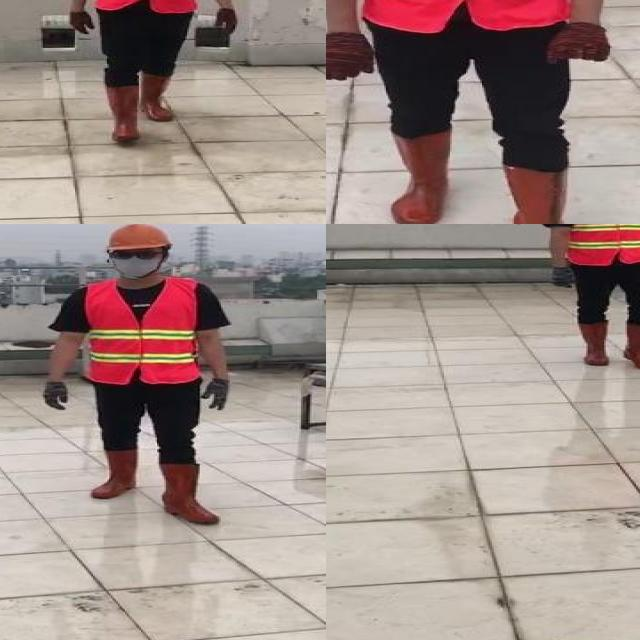boots: (498, 162, 596, 224), (389, 133, 451, 224), (162, 461, 234, 524), (88, 449, 142, 501), (102, 84, 140, 143), (576, 320, 614, 367), (142, 73, 176, 123), (622, 321, 640, 370)
face_mask: (111, 248, 164, 277)
glasses: (108, 250, 167, 262)
hand_glove: (548, 21, 608, 66), (326, 32, 373, 82), (202, 378, 236, 409), (41, 381, 70, 411), (68, 10, 96, 34), (216, 8, 240, 36), (549, 266, 575, 289)
head_helmet: (101, 224, 172, 252)
person: (326, 0, 635, 224), (29, 224, 234, 534), (60, 0, 243, 150), (539, 224, 640, 382)
vest: (81, 278, 203, 384), (563, 224, 640, 265)
